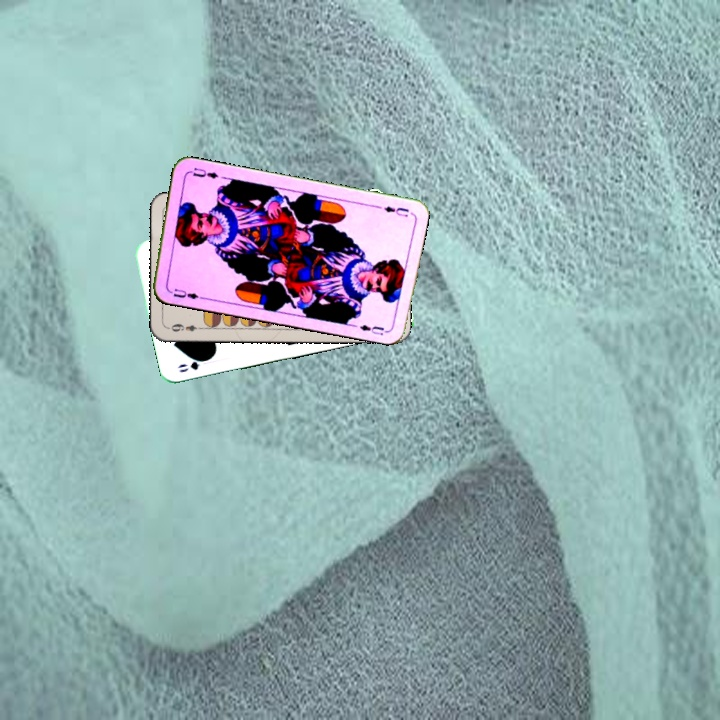E9: (165, 320, 205, 334)
EU: (165, 284, 205, 302), (380, 202, 411, 220)
GO: (174, 354, 213, 375)
